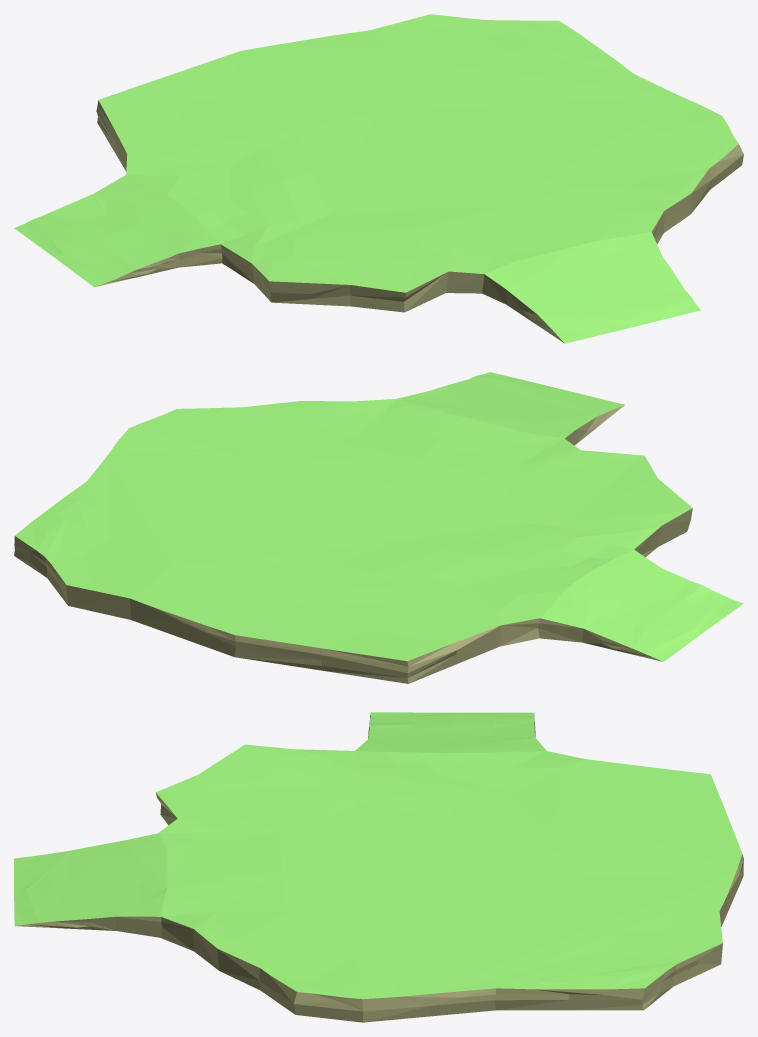
3 renders of one model, top to bottom at view 1: azimuth 30°, elevation 25°; view 2: azimuth 150°, elevation 25°; view 3: azimuth 270°, elevation 25°, orthographic. The views are drawn at different scales.
Parts seen in each view (by area): view 1: Plane001; view 2: Plane001; view 3: Plane001.
Part boxes in pixels (x1,y1,x2,y2): Plane001: (14, 14, 743, 343); Plane001: (14, 372, 743, 683); Plane001: (14, 712, 743, 1022).
Bounding box in the file's own units: 6114 × 220 × 6078.
